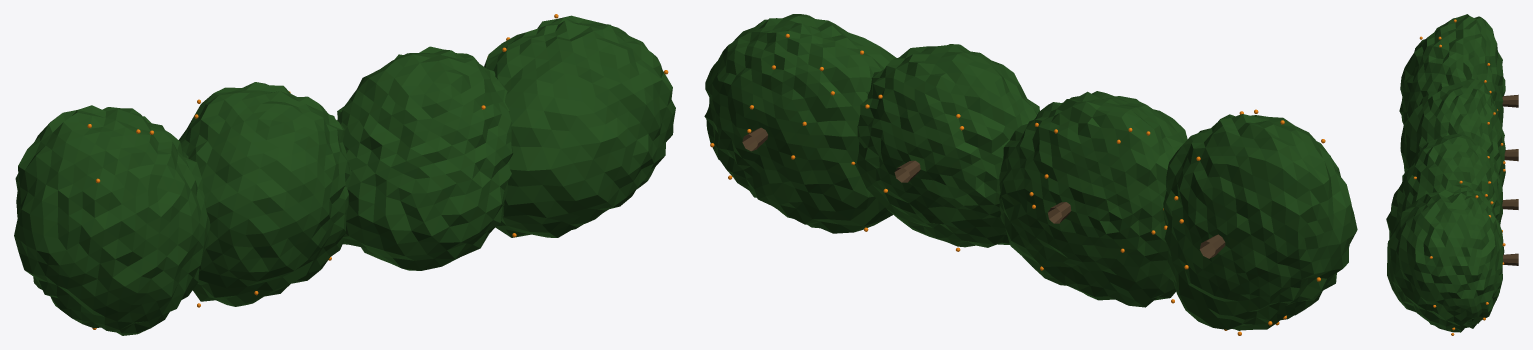
Rendered from citrus_run4_d_fruit.obj.
3 views of the same model, side by side, from view 1: azimuth 30°, elevation 25°; view 2: azimuth 150°, elevation 25°; view 3: azimuth 270°, elevation 25° (orthographic). The views are drawn at different scales.
Visible parts, largest first — view 1: canopy; view 2: canopy, trunk, fruit; view 3: canopy, trunk, fruit.
Part boxes in pixels (x1,y1,x2,y2): canopy: [14, 15, 675, 335]; canopy: [704, 14, 1357, 330]; trunk: [742, 127, 1225, 258]; fruit: [710, 33, 1325, 335]; canopy: [1386, 14, 1505, 332]; trunk: [1502, 94, 1518, 265]; fruit: [1413, 19, 1505, 335].
Size of the model in its own units: 12.56 by 4.13 by 3.25.
